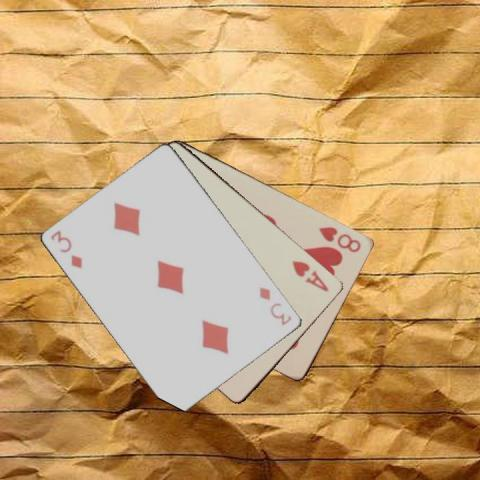3d: (48, 227, 85, 270), (257, 284, 293, 328)
8h: (316, 223, 363, 254)
Ah: (289, 258, 331, 294)
